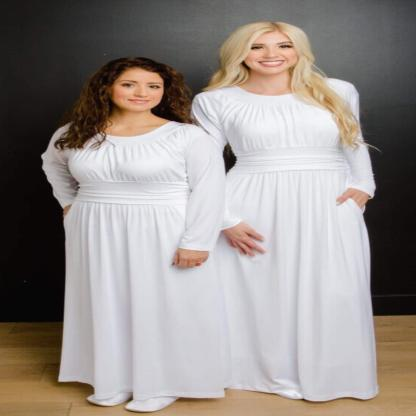dress: (192, 69, 390, 406), (33, 115, 235, 406)
jean: (196, 20, 380, 402), (41, 57, 230, 412)
